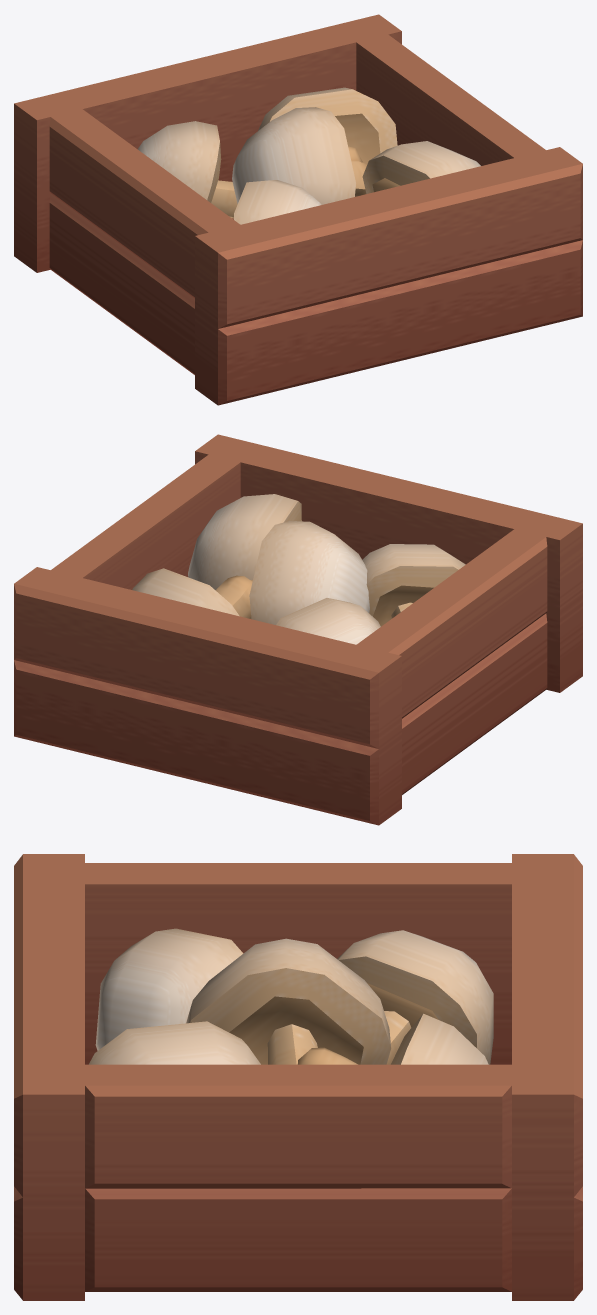
Rendered from crate_mushrooms.gltf.
3 views of the same model, one above another, from view 1: azimuth 30°, elevation 25°; view 2: azimuth 150°, elevation 25°; view 3: azimuth 270°, elevation 25° (orthographic). The views are drawn at different scales.
Visible parts, largest first — view 1: crate_mushrooms; view 2: crate_mushrooms; view 3: crate_mushrooms.
Part boxes in pixels (left/top/right/bottom): crate_mushrooms: left=14, top=14, right=582, bottom=405; crate_mushrooms: left=14, top=434, right=582, bottom=825; crate_mushrooms: left=14, top=854, right=582, bottom=1300.
Bounding box in the file's own units: 2 × 0.9179 × 2.
Materials: 1 (1 with a texture image).
